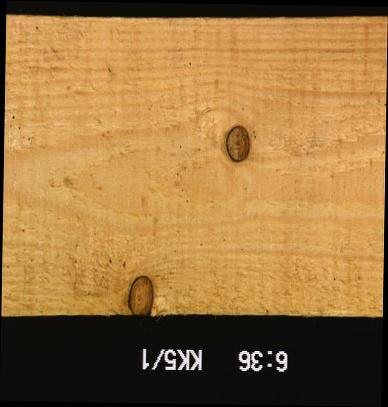dry_knot: (224, 123, 250, 162)
edge_knot: (126, 274, 155, 316)
